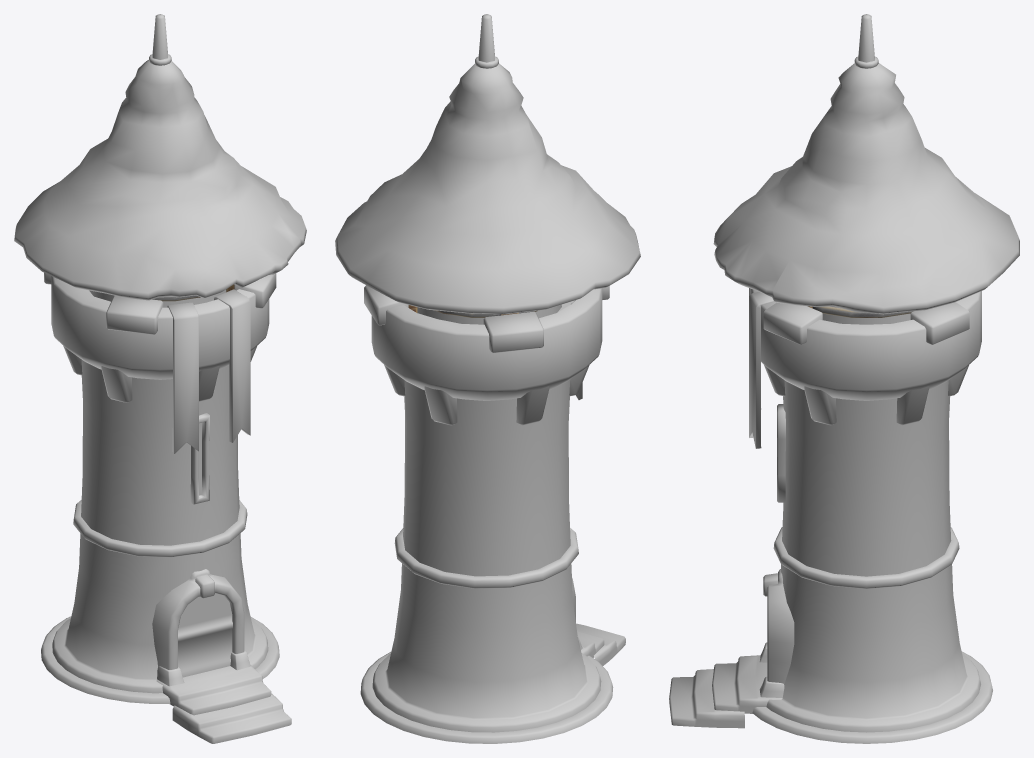
Rendered from TowerSubmeshes.fbx.
3 renders of one model, left to right at view 1: azimuth 30°, elevation 25°; view 2: azimuth 150°, elevation 25°; view 3: azimuth 270°, elevation 25°, orthographic. The views are drawn at different scales.
Parts seen in each view (by area): view 1: polySurface1, polySurface16, polySurface17, polySurface20, polySurface23, polySurface5, polySurface21, polySurface27, polySurface24, polySurface2, polySurface25, polySurface11 (+3 smaller); view 2: polySurface1, polySurface16, polySurface17, polySurface8, polySurface13, polySurface12, polySurface27, polySurface9, polySurface26, polySurface22; view 3: polySurface1, polySurface16, polySurface17, polySurface27, polySurface5, polySurface21, polySurface24, polySurface10, polySurface9, polySurface15, polySurface14, polySurface25 (+2 smaller).
Part boxes in pixels (<box>): polySurface1: <box>41,360,279,703</box>; polySurface16: <box>14,60,306,300</box>; polySurface17: <box>51,276,269,379</box>; polySurface20: <box>178,593,232,677</box>; polySurface23: <box>167,302,198,453</box>; polySurface5: <box>156,665,271,715</box>; polySurface21: <box>152,569,244,669</box>; polySurface27: <box>172,693,291,743</box>; polySurface24: <box>214,289,250,442</box>; polySurface2: <box>106,296,163,334</box>; polySurface25: <box>190,413,209,504</box>; polySurface11: <box>101,366,132,402</box>; polySurface1: <box>360,379,613,743</box>; polySurface16: <box>335,63,640,314</box>; polySurface17: <box>371,288,602,400</box>; polySurface8: <box>483,311,543,353</box>; polySurface13: <box>424,386,457,425</box>; polySurface12: <box>516,386,549,425</box>; polySurface27: <box>576,623,625,665</box>; polySurface9: <box>364,285,408,325</box>; polySurface26: <box>417,304,561,324</box>; polySurface22: <box>478,14,494,62</box>; polySurface1: <box>752,380,992,743</box>; polySurface16: <box>713,63,1019,314</box>; polySurface17: <box>751,289,981,400</box>; polySurface27: <box>669,669,744,728</box>; polySurface5: <box>712,655,782,713</box>; polySurface21: <box>767,569,794,684</box>; polySurface24: <box>749,291,774,448</box>; polySurface10: <box>763,302,822,344</box>; polySurface9: <box>910,302,969,344</box>; polySurface15: <box>803,386,836,425</box>; polySurface14: <box>896,386,929,425</box>; polySurface25: <box>777,404,785,502</box>.
Bounding box in the file's own units: 770 × 1909 × 880.
